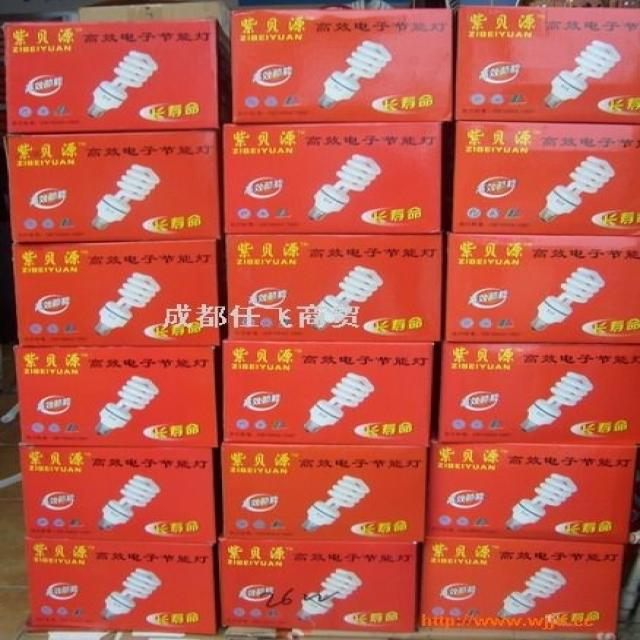box: (0, 16, 231, 132), (229, 8, 456, 123), (3, 130, 224, 242), (222, 122, 443, 233), (228, 235, 443, 342), (221, 339, 434, 445), (12, 240, 222, 346), (446, 234, 640, 345), (456, 6, 640, 123), (427, 443, 640, 543), (452, 122, 640, 235), (438, 344, 640, 445), (419, 534, 624, 632), (15, 348, 219, 446), (219, 445, 427, 541), (18, 447, 216, 543), (25, 538, 216, 635), (219, 539, 415, 633), (79, 1, 229, 34)
